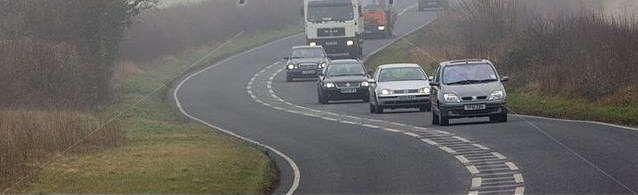bus: (302, 1, 367, 60)
car: (428, 58, 511, 127), (367, 62, 435, 114), (316, 57, 371, 104), (281, 45, 332, 82)
